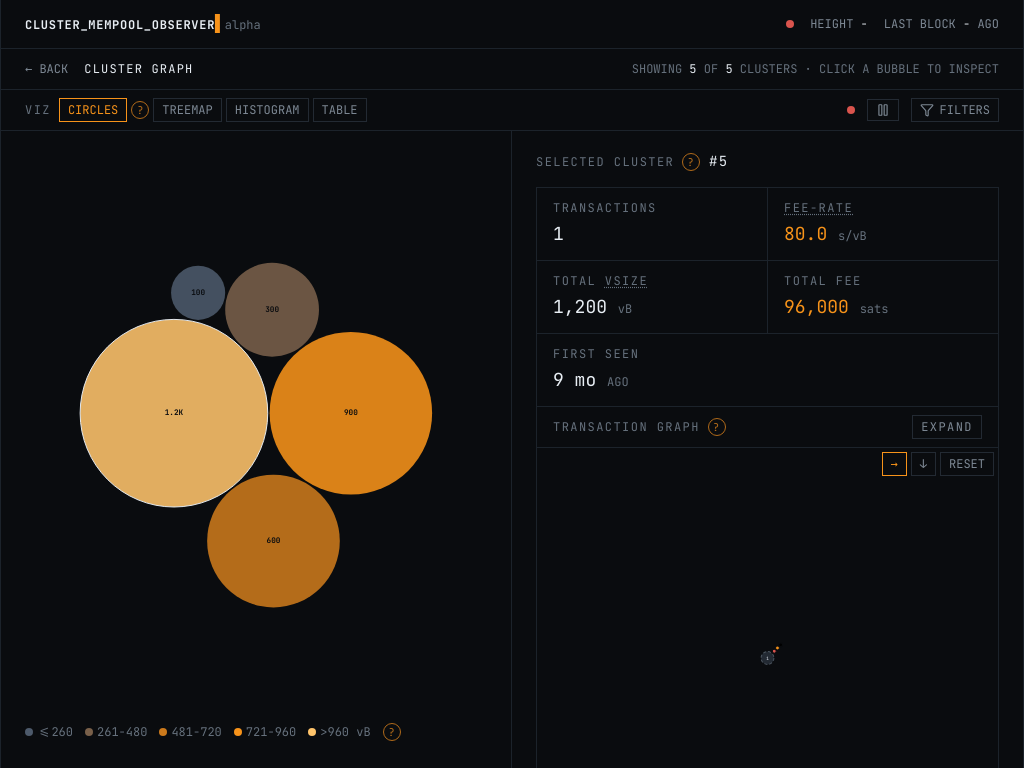
Test case: Clusters page: the URL restores the viz config › reads a matching size/colour pair back as linked
Expected: the text "CLUSTER GRAPH" is shown, [84,61,193,77]
What coordinates should you click on to do the following:
click the button named "Toggle filters"
I would click on:
 (955, 110)
Its box is [911,98,999,122].
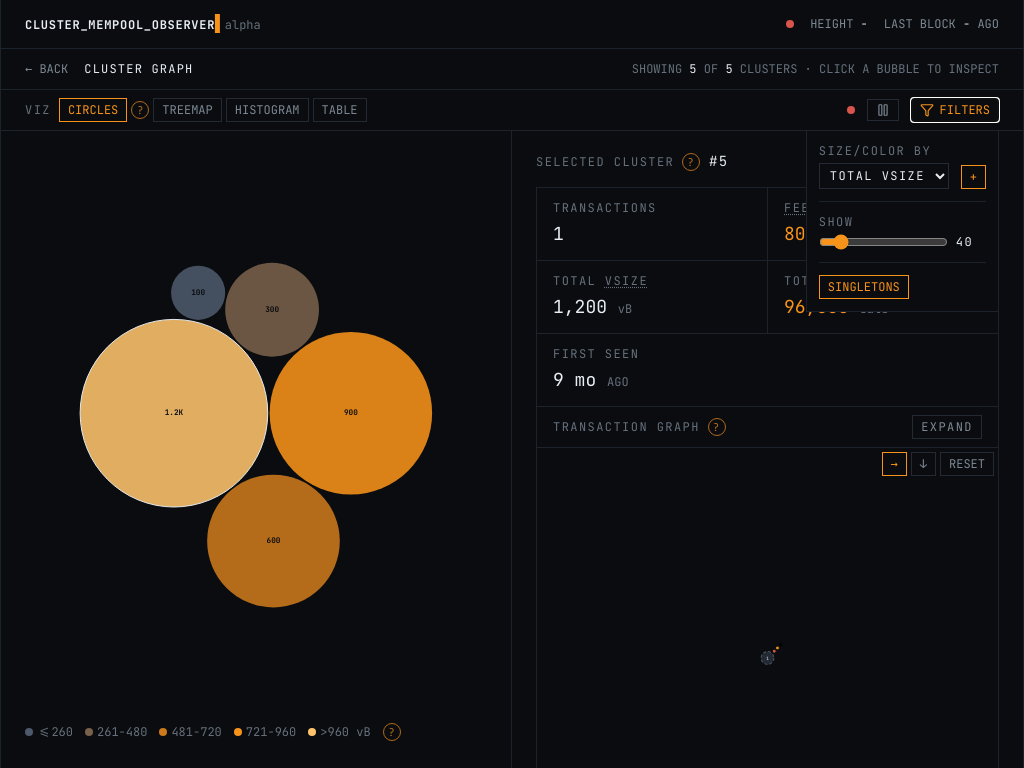
Expected: the field labelled "COLOR BY" is not shown
Expected: the dropdown labelled "SIZE/COLOR BY" shows "TOTAL VSIZE", [819,163,949,189]
